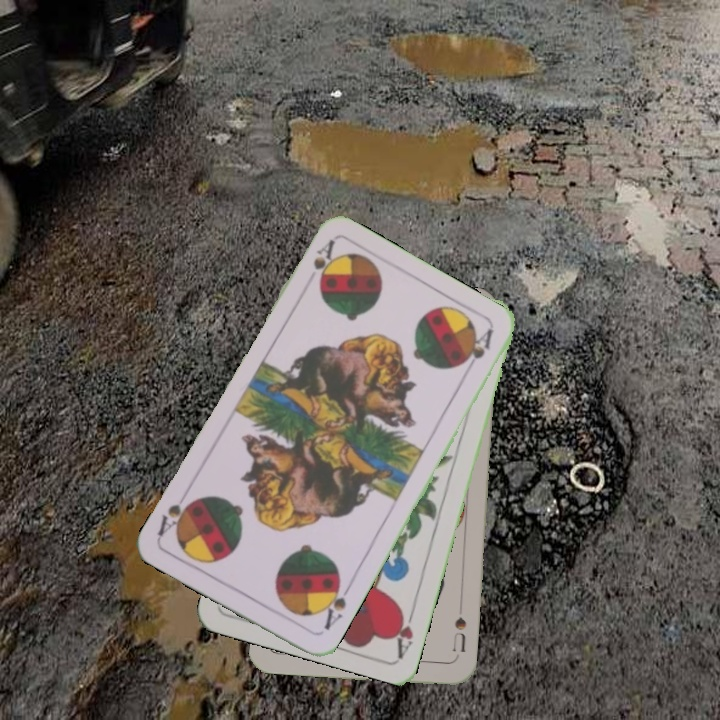HA: (389, 601, 418, 659)
SA: (316, 576, 354, 633), (309, 235, 338, 287)
SU: (448, 613, 469, 661)
